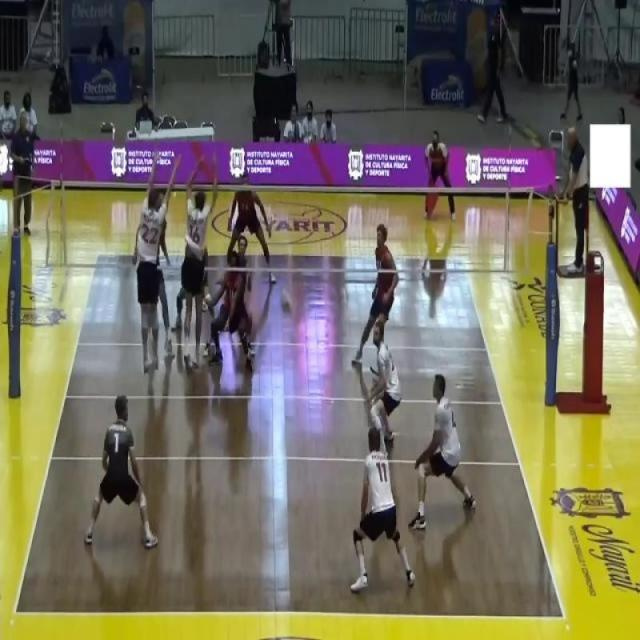volleyball: (280, 288, 294, 314)
